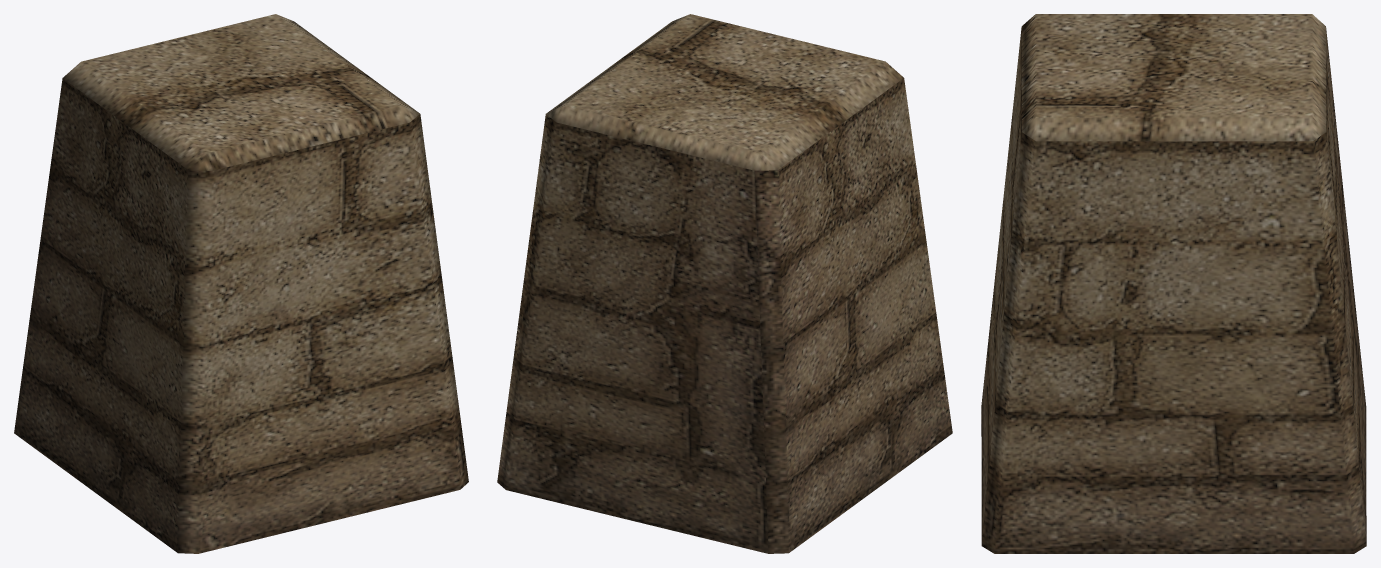
Rendered from Block_08.fbx.
3 views of the same model, side by side, from view 1: azimuth 30°, elevation 25°; view 2: azimuth 150°, elevation 25°; view 3: azimuth 270°, elevation 25° (orthographic). The views are drawn at different scales.
Parts seen in each view (by area): view 1: Block_08; view 2: Block_08; view 3: Block_08.
Part boxes in pixels (left/top/right/bottom): Block_08: left=14, top=14, right=468, bottom=553; Block_08: left=497, top=14, right=952, bottom=553; Block_08: left=981, top=14, right=1366, bottom=553.
Bounding box in the file's own units: 1.22 × 1.49 × 1.27.
